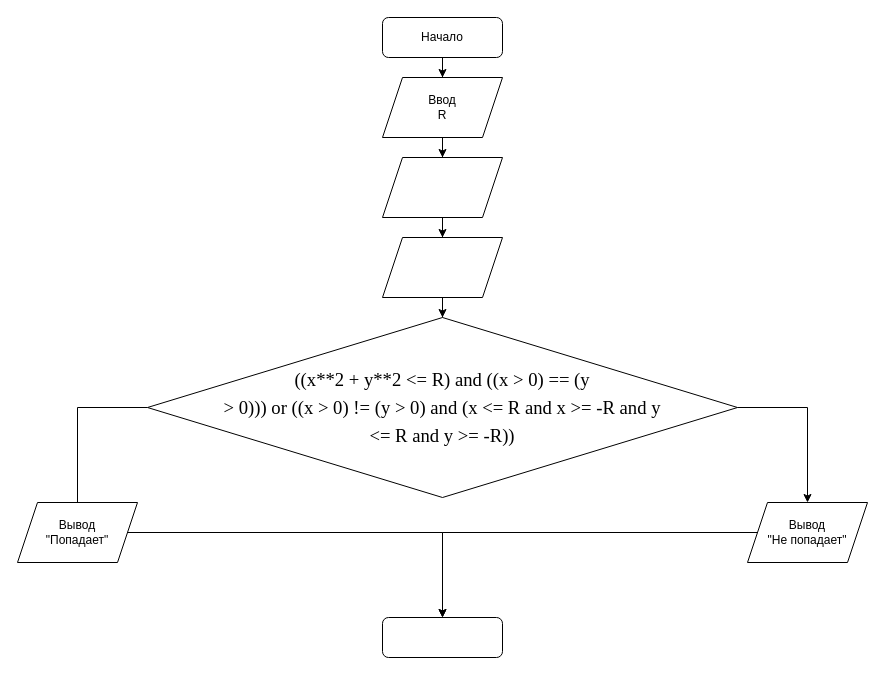
Some shapes in this 885 by 675 pixel diagram are drawn without their labels. Here are the shapes that lost their labels. From the top down, the centre of each, then its label:
the point at 442,187: Ввод x
the point at 442,267: Ввод y
the point at 442,637: Конец
